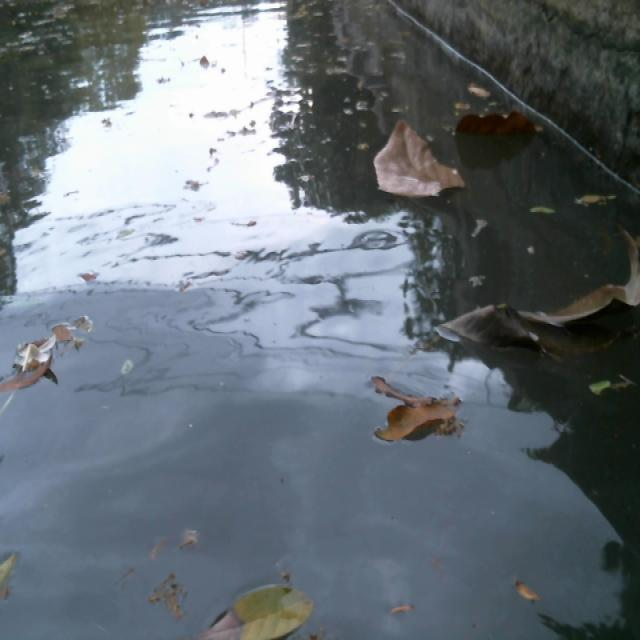Big-leaf: (432, 236, 640, 375), (366, 114, 472, 205), (372, 361, 471, 458), (446, 107, 538, 138)
Small-leaf: (0, 289, 108, 415), (196, 569, 317, 640), (569, 181, 631, 213), (0, 549, 32, 606), (179, 515, 215, 555), (508, 575, 546, 612), (467, 74, 508, 108), (587, 369, 625, 401), (519, 183, 558, 214)
